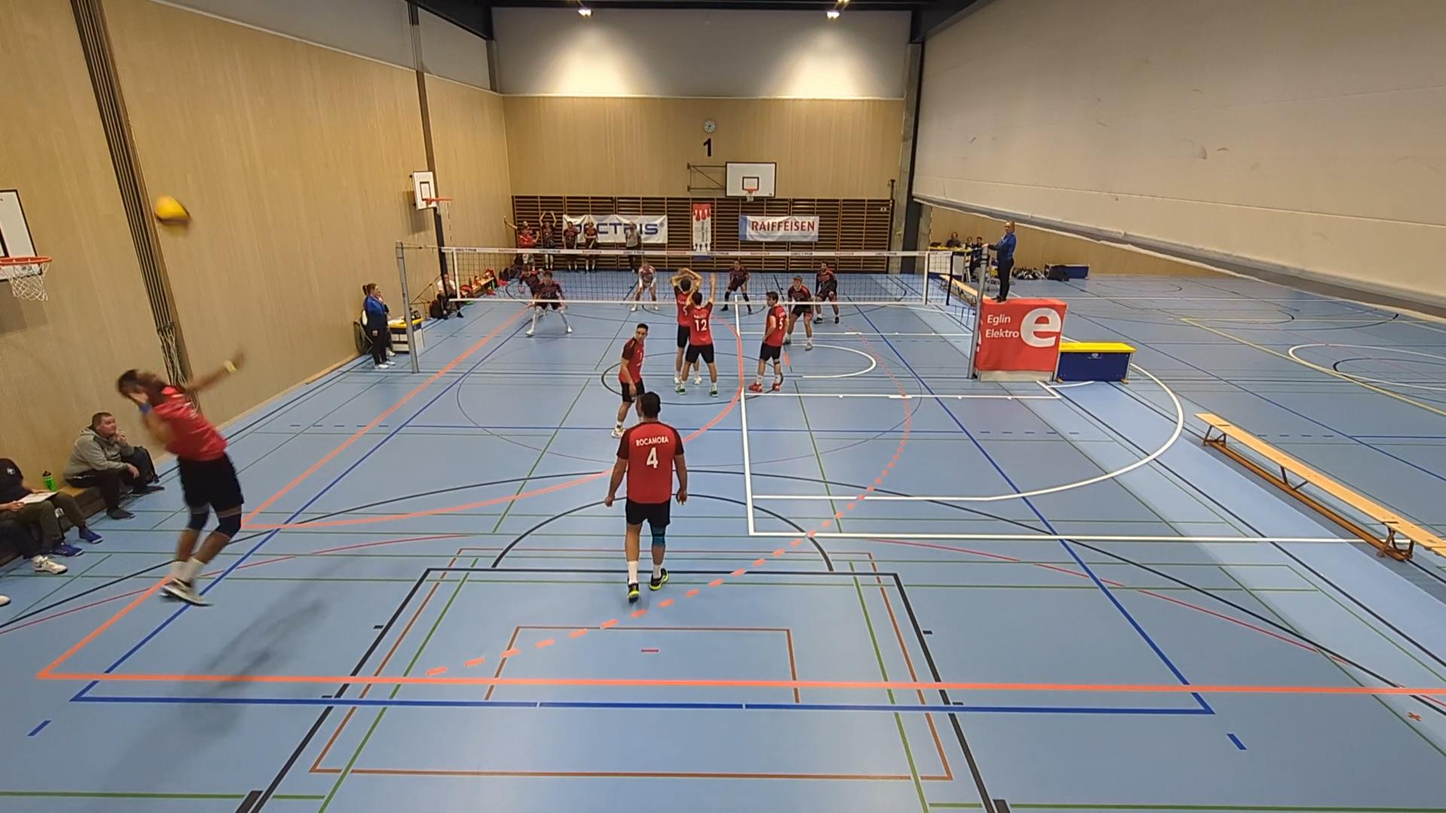Player: (604, 392, 687, 601), (676, 275, 717, 395), (612, 324, 648, 437), (749, 291, 787, 392), (670, 268, 701, 385), (525, 270, 572, 336), (783, 276, 812, 349), (813, 262, 838, 323), (721, 260, 750, 311), (631, 260, 657, 311)
Serve: (113, 357, 250, 608)
ball: (151, 196, 206, 233)
